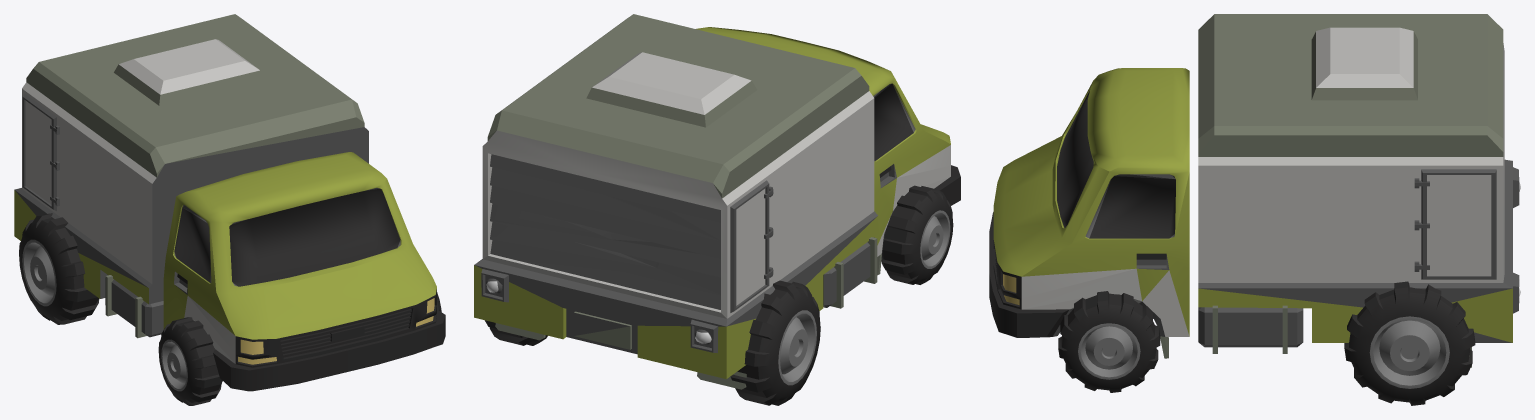
File: Truck.glb
3 renders of one model, left to right at view 1: azimuth 30°, elevation 25°; view 2: azimuth 150°, elevation 25°; view 3: azimuth 270°, elevation 25°, orthographic. The views are drawn at different scales.
Visible parts, largest first — view 1: Car Body, R_Back Wheel, R_Front Wheel; view 2: Car Body, R_Back Wheel, R_Front Wheel, L_Back Wheel; view 3: Car Body, L_Back Wheel, L_Front Wheel.
Part boxes in pixels (left/top/right/bottom): Car Body: left=14, top=14, right=445, bottom=391; R_Back Wheel: left=19, top=213, right=99, bottom=324; R_Front Wheel: left=158, top=317, right=222, bottom=405; Car Body: left=474, top=14, right=960, bottom=389; R_Back Wheel: left=730, top=280, right=820, bottom=405; R_Front Wheel: left=881, top=185, right=953, bottom=284; L_Back Wheel: left=485, top=320, right=547, bottom=345; Car Body: left=989, top=14, right=1520, bottom=367; L_Back Wheel: left=1344, top=281, right=1475, bottom=405; L_Front Wheel: left=1058, top=291, right=1160, bottom=392.
Bounding box in the file's own units: 0.2434 × 0.2185 × 0.3663.
3 materials, 1 textured.
